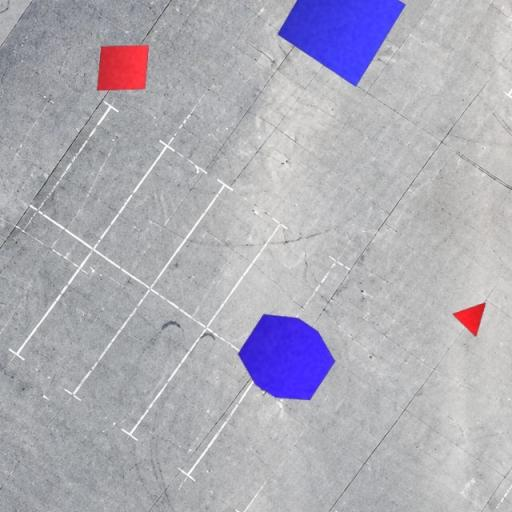BLUE_SQUARE: (277, 0, 406, 88)
RED_SQUARE: (97, 45, 149, 91)
